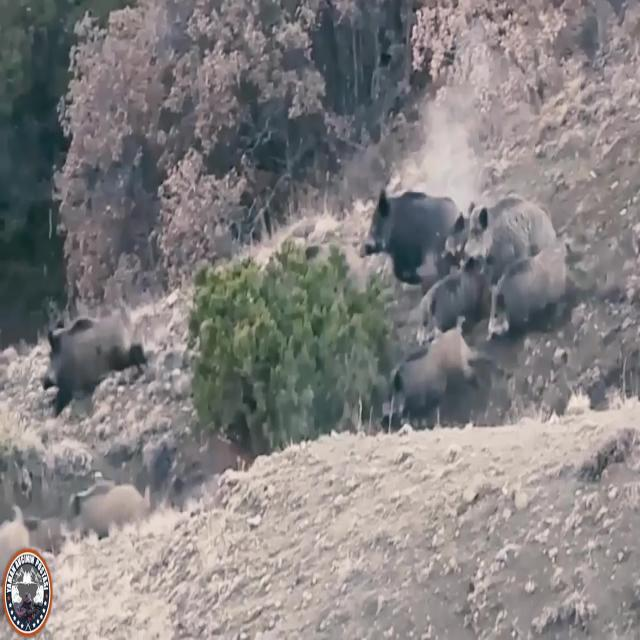pig: (20, 290, 144, 423), (364, 154, 471, 292), (454, 183, 561, 301), (394, 311, 473, 423), (485, 258, 584, 336)
